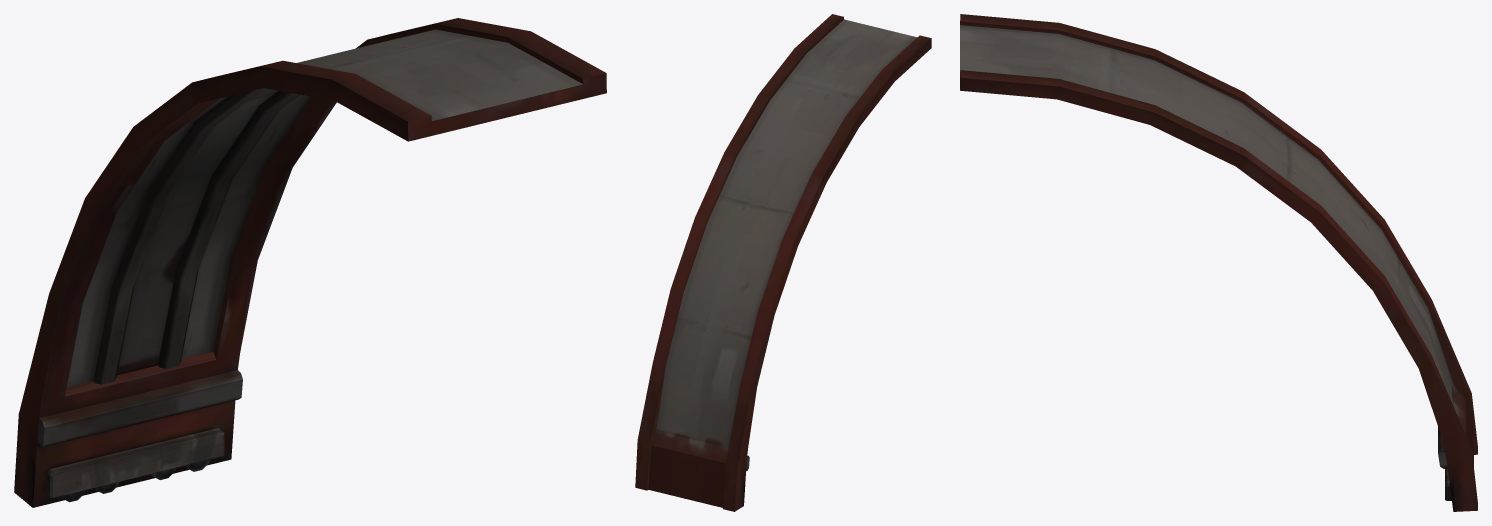
3 renders of one model, left to right at view 1: azimuth 30°, elevation 25°; view 2: azimuth 150°, elevation 25°; view 3: azimuth 270°, elevation 25°, orthographic. The views are drawn at different scales.
Parts seen in each view (by area): view 1: body0_model0_lod0_mesh0; view 2: body0_model0_lod0_mesh0; view 3: body0_model0_lod0_mesh0.
Boxes of the visible parts, x1,y1,x2,y2 form: body0_model0_lod0_mesh0: [14, 18, 606, 507]; body0_model0_lod0_mesh0: [635, 14, 931, 511]; body0_model0_lod0_mesh0: [960, 14, 1477, 511].
Bounding box in the file's own units: 14.66 × 46.62 × 50.39.
Materials: 1 (1 with a texture image).
